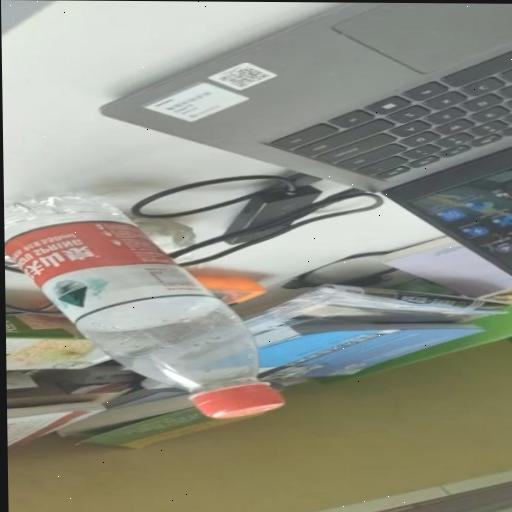bottle: (2, 166, 298, 464)
